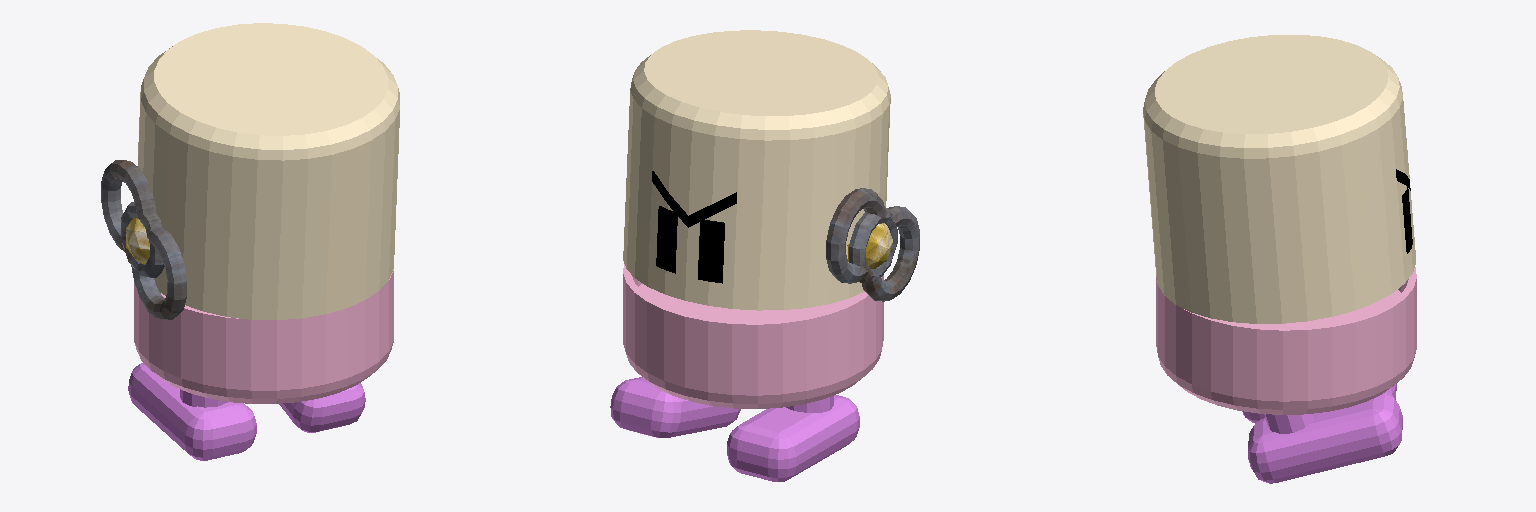
3 views of the same model, side by side, from view 1: azimuth 30°, elevation 25°; view 2: azimuth 150°, elevation 25°; view 3: azimuth 270°, elevation 25° (orthographic).
Parts seen in each view (by area): view 1: Head, Jaw, WindupKey, LeftLeg, RightLeg; view 2: Head, Jaw, LeftLeg, WindupKey, RightLeg; view 3: Head, Jaw, RightLeg.
Part boxes in pixels (x1,y1,x2,y2): Head: (138, 23, 399, 319); Jaw: (134, 269, 393, 403); WindupKey: (101, 160, 186, 319); LeftLeg: (128, 363, 256, 460); RightLeg: (279, 383, 365, 432); Head: (623, 30, 890, 310); Jaw: (623, 264, 883, 408); LeftLeg: (727, 395, 859, 481); WindupKey: (826, 188, 919, 301); RightLeg: (610, 377, 740, 437); Head: (1143, 35, 1415, 323); Jaw: (1156, 267, 1416, 414); RightLeg: (1248, 392, 1402, 483).
Size of the model in its own units: 110 by 156 by 105.
Materials: 6 (2 with a texture image).